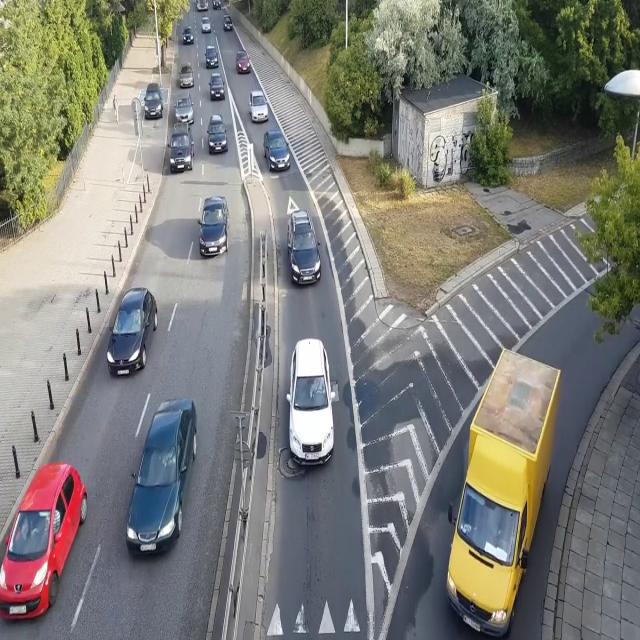car: (1, 461, 88, 622), (124, 396, 199, 559), (286, 338, 336, 466), (106, 285, 160, 374), (286, 209, 322, 285), (197, 195, 229, 256), (168, 122, 195, 172), (264, 130, 292, 174), (206, 114, 229, 156), (144, 83, 164, 120), (249, 90, 270, 124), (174, 94, 194, 125), (178, 63, 195, 91), (235, 50, 251, 75), (210, 72, 224, 100), (205, 43, 219, 68), (182, 24, 194, 44), (201, 16, 212, 34), (222, 15, 232, 31), (213, 0, 221, 8)
truck: (444, 343, 562, 640), (196, 0, 208, 10)
